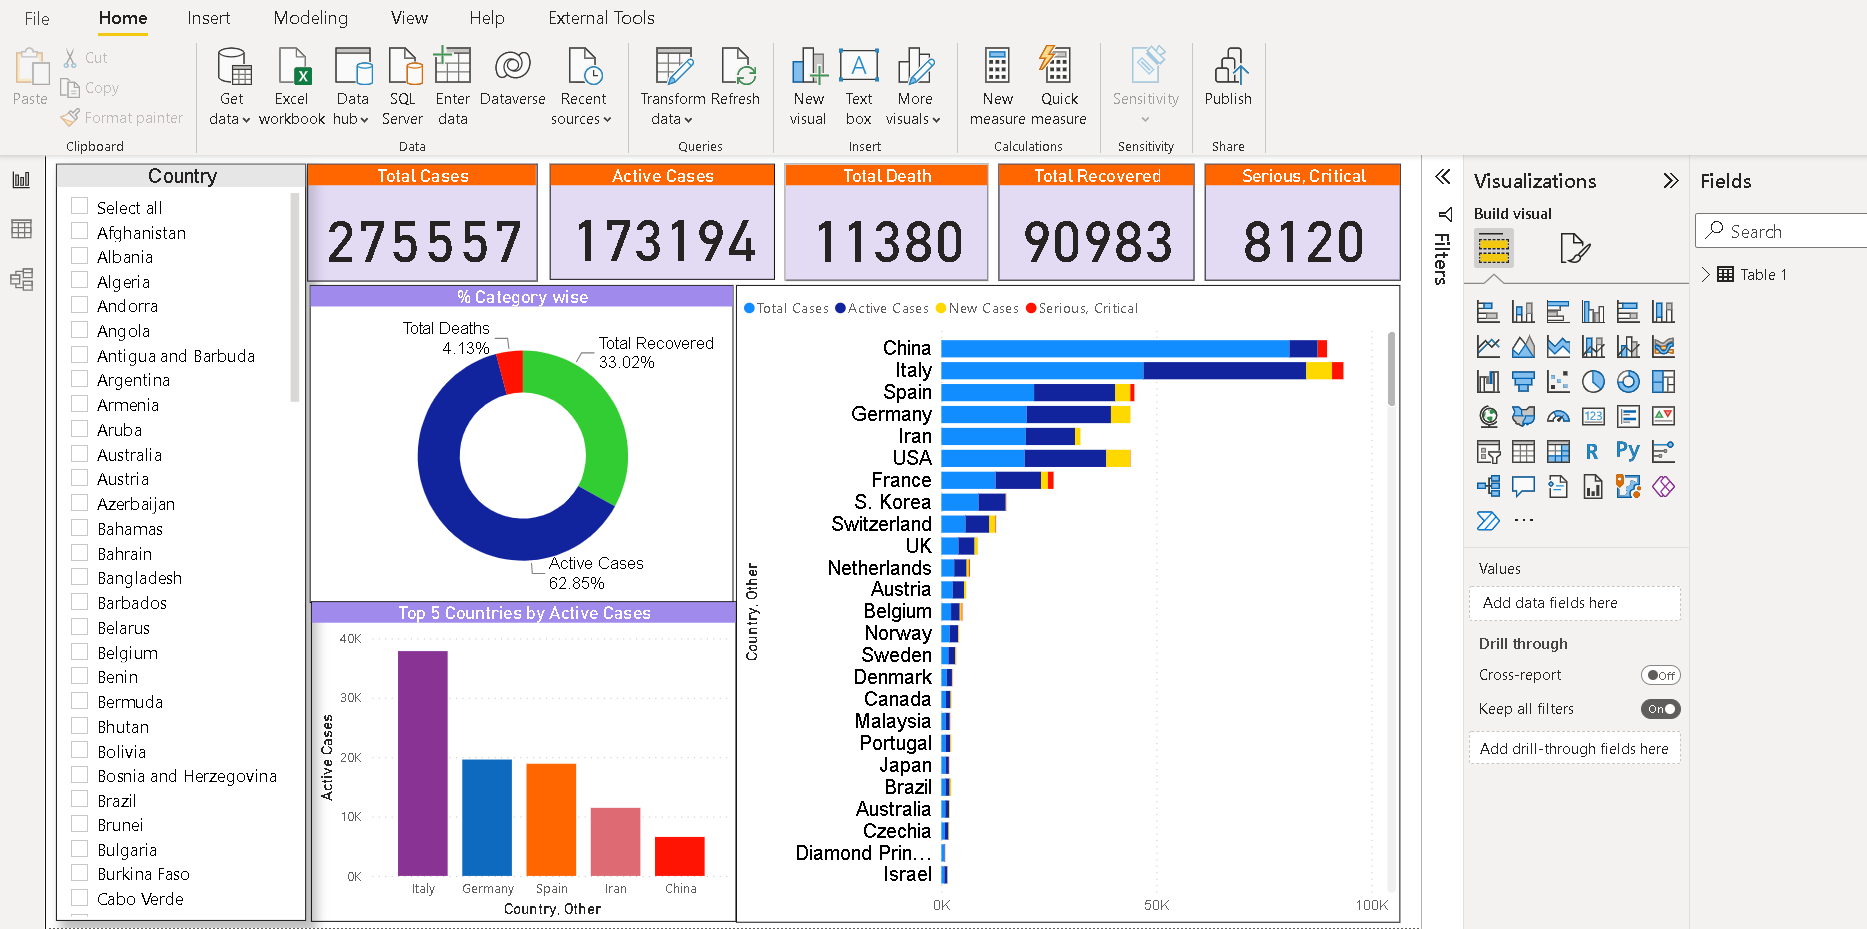

This screenshot's page, from the dashboard's own definition file:
{"tool":"powerbi","page":{"name":"Page 1","canvas":[1280,720],"ordinal":0},"visuals":[{"type":"slicer","title":"Country","fields":{"Values":["Table 1.Country, Other"]},"box":[9.6,8.3,232.7,704.9],"z":0},{"type":"card","title":"Total Cases","fields":{"Values":["Sum(Table 1.Total Cases)"]},"box":[243.2,8.1,214.1,109.4],"z":1000},{"type":"card","title":"Total Death","fields":{"Values":["Sum(Table 1.Total Deaths)"]},"box":[687.2,8.2,189.7,108.9],"z":2000},{"type":"card","title":"Active Cases","fields":{"Values":["Sum(Table 1.Active Cases)"]},"box":[469.5,8.2,209.6,107.7],"z":3000},{"type":"card","title":"Total Recovered","fields":{"Values":["Sum(Table 1.Total Recovered)"]},"box":[886.2,8.2,182.6,108.9],"z":4000},{"type":"donutChart","title":"% Category wise","fields":{"Y":["Sum(Table 1.Total Recovered)","Sum(Table 1.Active Cases)","Sum(Table 1.Total Deaths)"]},"box":[245.9,120.6,394.5,296.2],"z":5000},{"type":"barChart","fields":{"Category":["Table 1.Country, Other"],"Y":["Sum(Table 1.Total Cases)","Sum(Table 1.Active Cases)","Sum(Table 1.New Cases)","Sum(Table 1.Serious, Critical)"]},"box":[642.9,121.1,618.1,593.3],"z":6000},{"type":"clusteredColumnChart","title":"Top 5 Countries by Active Cases","fields":{"Category":["Table 1.Country, Other"],"Y":["Sum(Table 1.Active Cases)"]},"box":[246.4,415.7,396.4,298.7],"z":7000},{"type":"card","title":"Serious, Critical","fields":{"Values":["Sum(Table 1.Serious, Critical)"]},"box":[1078.2,8.2,182.6,108.9],"z":8000}]}

Visuals, with their boxes on the page's 1280x720 design canvas (x1, y1, x2, y2). These are canvas units, not pixel positions in the 1867x929 screenshot, which may show the page scaled, cropped or inside an application window:
"Country" slicer: rect(10, 8, 242, 713)
"Total Cases" card: rect(243, 8, 457, 118)
"Total Death" card: rect(687, 8, 877, 117)
"Active Cases" card: rect(470, 8, 679, 116)
"Total Recovered" card: rect(886, 8, 1069, 117)
"% Category wise" donutChart: rect(246, 121, 640, 417)
barChart - Table 1.Country, Other x Sum(Table 1.Total Cases): rect(643, 121, 1261, 714)
"Top 5 Countries by Active Cases" clusteredColumnChart: rect(246, 416, 643, 714)
"Serious, Critical" card: rect(1078, 8, 1261, 117)
